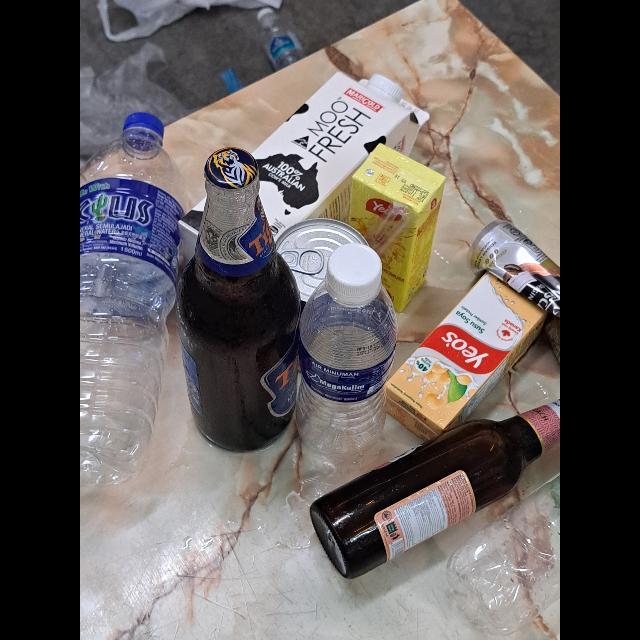aba de lata: (282, 246, 324, 274)
caixinha: (182, 70, 428, 242), (388, 269, 538, 435), (352, 136, 428, 308)
garrafa de vidro: (310, 400, 560, 572), (182, 148, 298, 448)
garrafa plástica: (80, 132, 190, 484), (303, 279, 392, 481), (456, 464, 560, 618), (256, 14, 304, 68)
lata: (470, 218, 560, 356), (274, 212, 374, 316)
tampa plástica: (324, 242, 382, 304), (368, 70, 407, 104), (128, 113, 162, 137)
